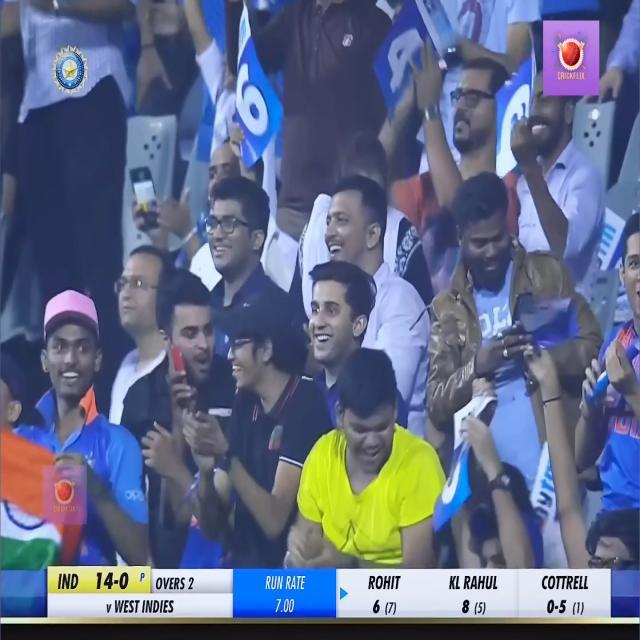partially_visible: (521, 453, 560, 532), (584, 204, 619, 288)
